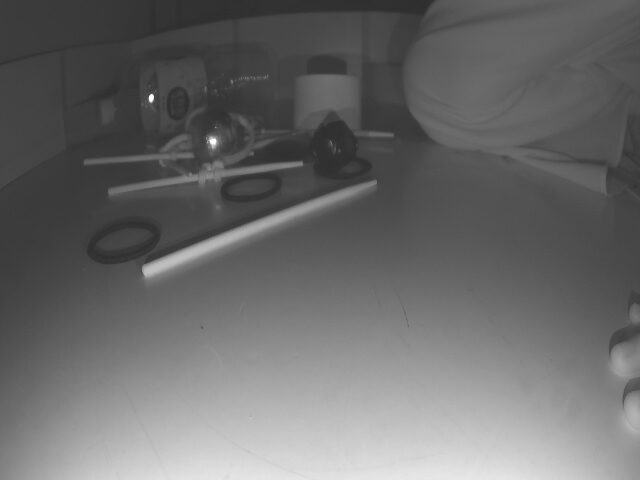Dead: (310, 121, 360, 175)
Live: (192, 108, 237, 164)
Point: (58, 92, 124, 140), (360, 58, 414, 108)
